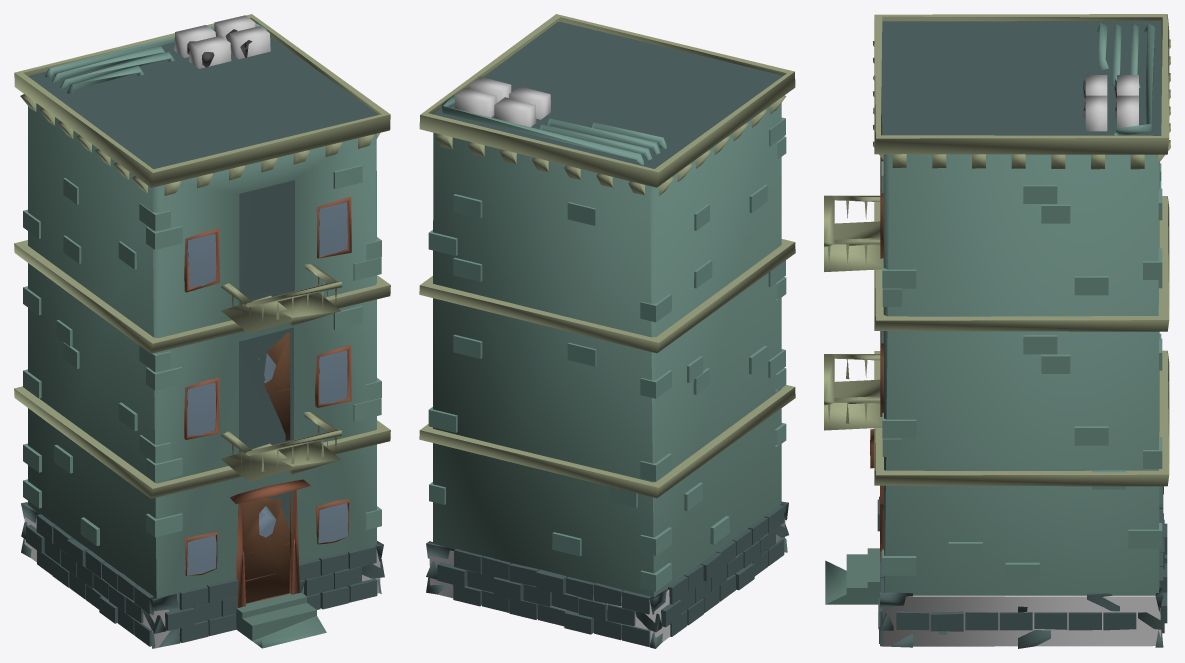
Rendered from medium-building-a.low.glb.
3 renders of one model, left to right at view 1: azimuth 30°, elevation 25°; view 2: azimuth 150°, elevation 25°; view 3: azimuth 270°, elevation 25°, orthographic. The views are drawn at different scales.
Visible parts, largest first — view 1: 3Story_Balcony_Mat; view 2: 3Story_Balcony_Mat; view 3: 3Story_Balcony_Mat.
Boxes of the visible parts, left/top/right/bottom form: 3Story_Balcony_Mat: left=14, top=14, right=390, bottom=648; 3Story_Balcony_Mat: left=419, top=14, right=795, bottom=648; 3Story_Balcony_Mat: left=824, top=14, right=1170, bottom=648.
Size of the model in its own units: 2.17 by 4.21 by 2.51.
